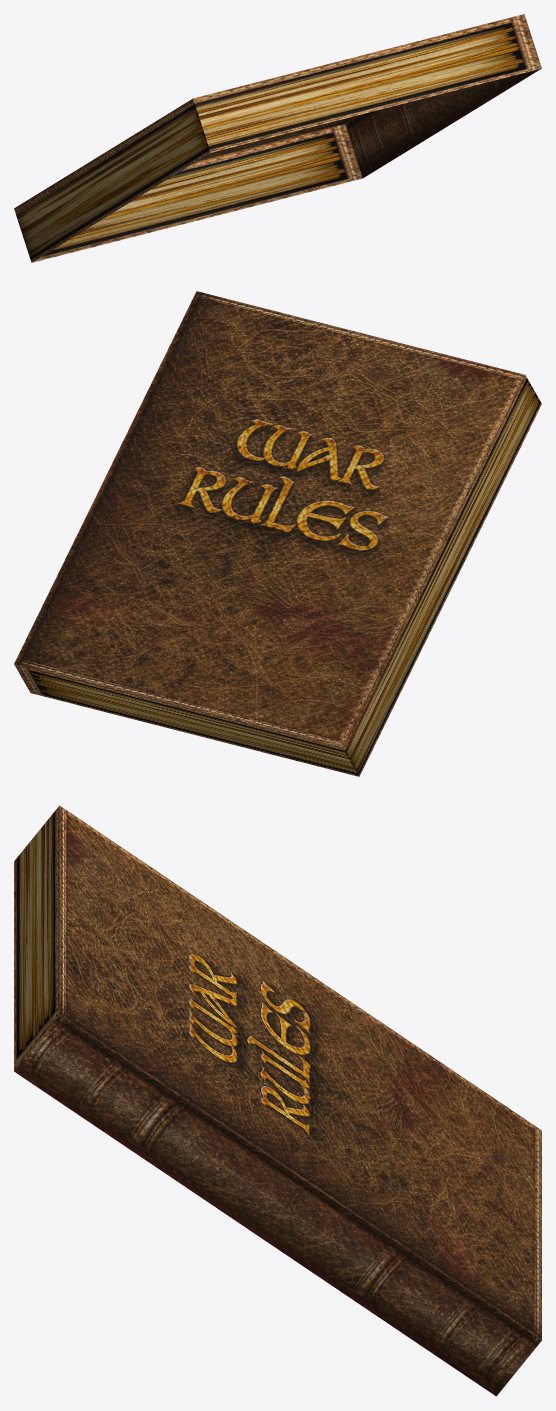
File: mm9_deco_bookrulestilt.glb
3 views of the same model, one above another, from view 1: azimuth 30°, elevation 25°; view 2: azimuth 150°, elevation 25°; view 3: azimuth 270°, elevation 25° (orthographic). The views are drawn at different scales.
Parts seen in each view (by area): view 1: Bookrulestilt; view 2: Bookrulestilt; view 3: Bookrulestilt.
Part boxes in pixels (x1,y1,x2,y2): Bookrulestilt: [14, 14, 541, 262]; Bookrulestilt: [14, 291, 541, 776]; Bookrulestilt: [14, 805, 541, 1396].
Size of the model in its own units: 0.6249 by 0.5167 by 0.6436.
1 material, 1 textured.
